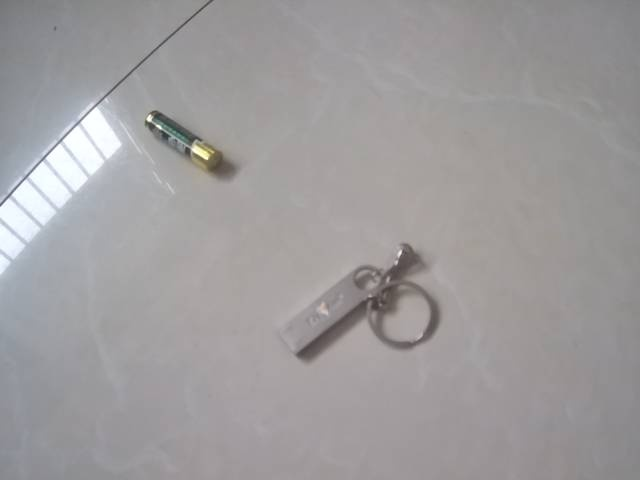U-disk: (276, 237, 442, 365)
battery: (143, 105, 227, 174)
